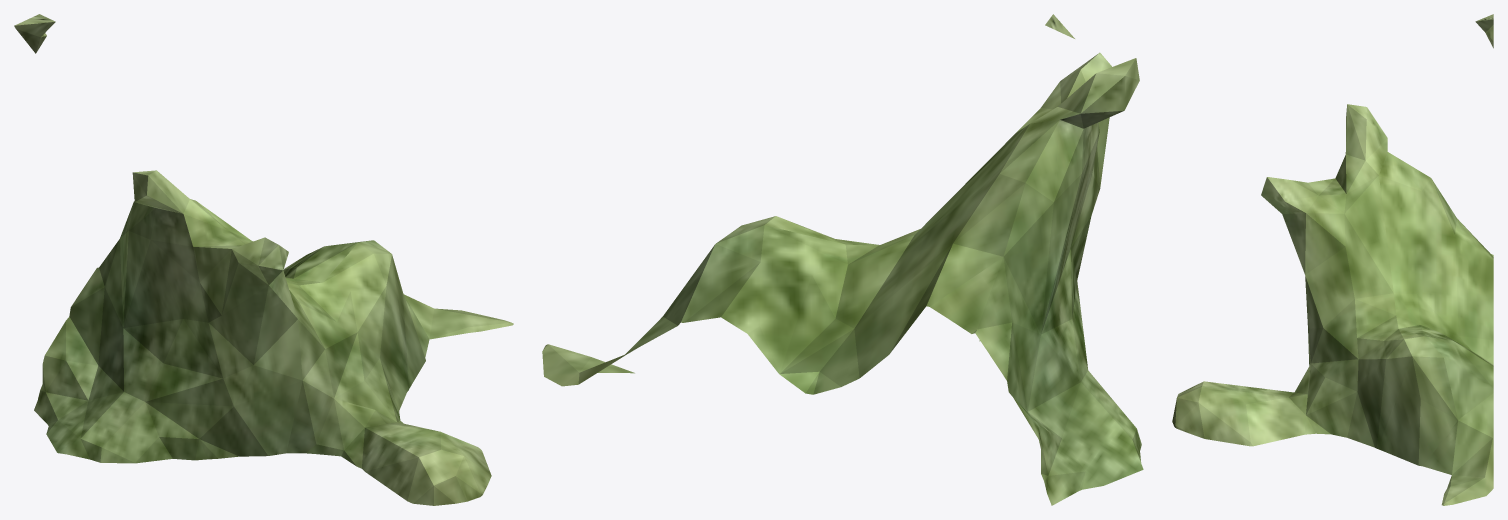
3 renders of one model, left to right at view 1: azimuth 30°, elevation 25°; view 2: azimuth 150°, elevation 25°; view 3: azimuth 270°, elevation 25°, orthographic. The views are drawn at different scales.
Bounding box in the file's own units: 1.78 × 1.41 × 1.31.
1 material, 1 textured.
